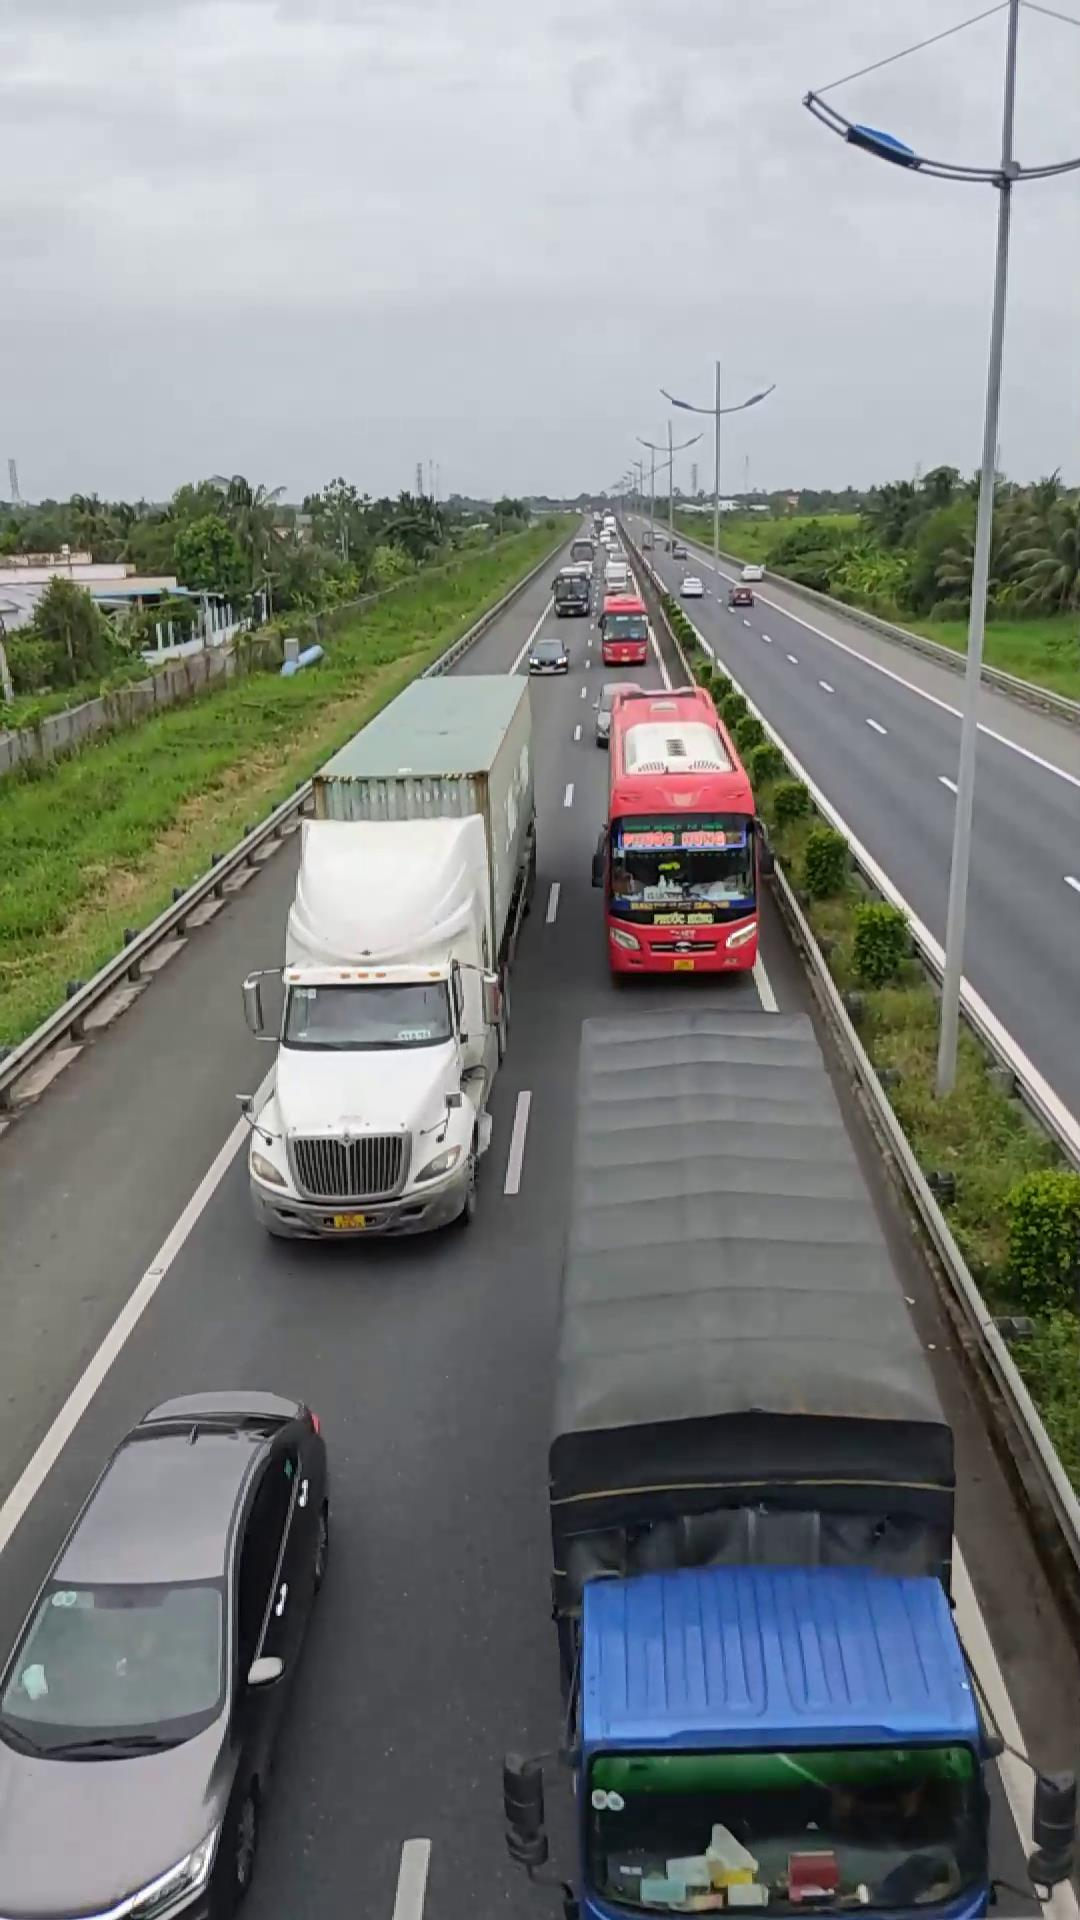bus: (594, 679, 765, 979)
car: (0, 1388, 337, 1919)
container: (240, 664, 535, 1242)
truck: (552, 992, 1021, 1915)
